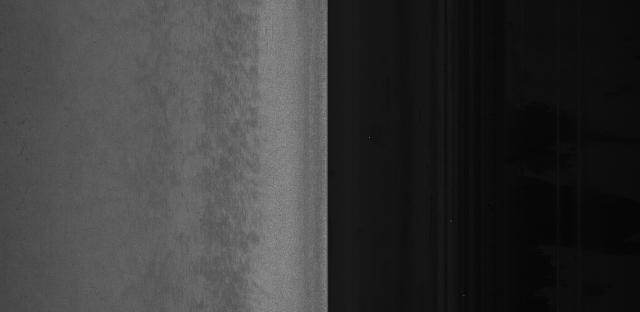silk_spot: (208, 56, 281, 271)
